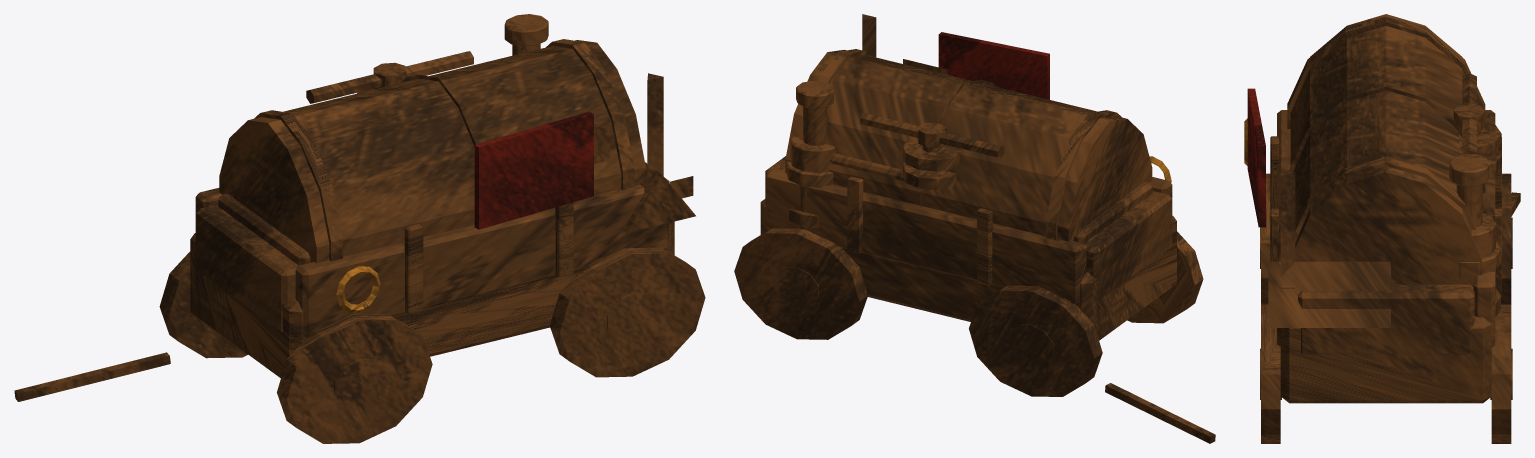
Rendered from unmarked-wagon.glb.
The picture shows the model from 3 angles, left to right: view 1: azimuth 30°, elevation 25°; view 2: azimuth 150°, elevation 25°; view 3: azimuth 270°, elevation 25°; orthographic projection. The views are drawn at different scales.
Parts seen in each view (by area): view 1: unmarked-wagon; view 2: unmarked-wagon; view 3: unmarked-wagon.
Part boxes in pixels (bbox=[...]): unmarked-wagon: bbox=[14, 14, 705, 443]; unmarked-wagon: bbox=[734, 14, 1215, 443]; unmarked-wagon: bbox=[1244, 14, 1520, 443].
Size of the model in its own units: 8.57 by 4.15 by 3.72.
Materials: 1 (1 with a texture image).
